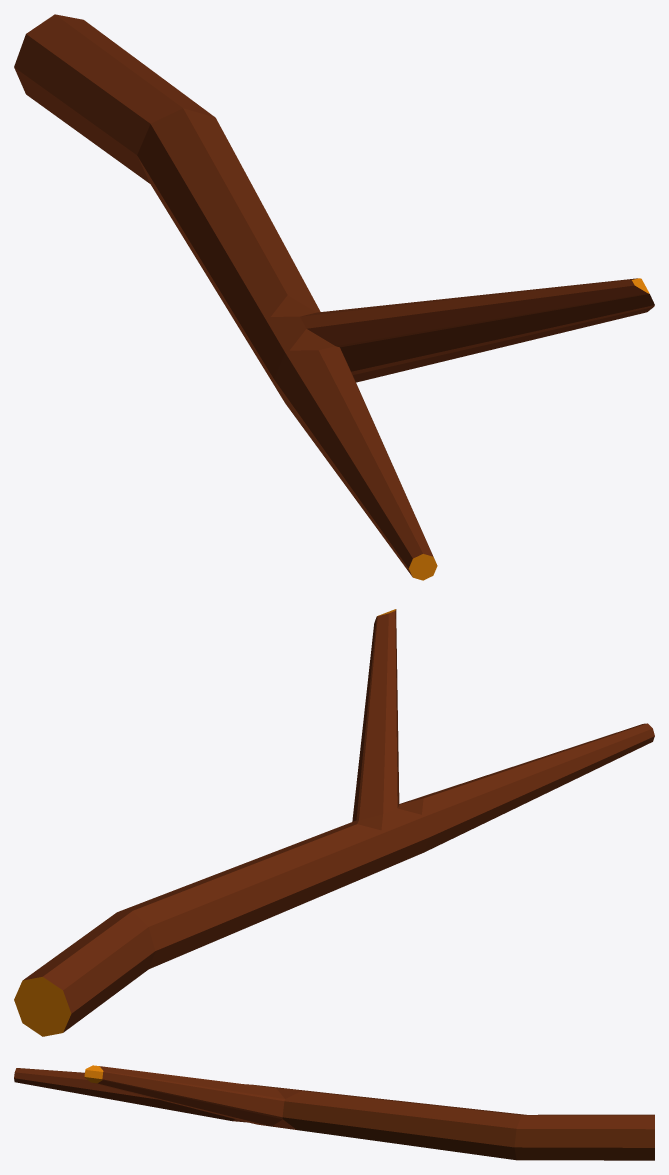
The model's file is Stick_43.fbx.
3 views of the same model, one above another, from view 1: azimuth 30°, elevation 25°; view 2: azimuth 150°, elevation 25°; view 3: azimuth 270°, elevation 25° (orthographic). The views are drawn at different scales.
Visible parts, largest first — view 1: Circle.405; view 2: Circle.405; view 3: Circle.405.
Part boxes in pixels (bbox=[...]): Circle.405: bbox=[14, 14, 654, 580]; Circle.405: bbox=[14, 609, 654, 1036]; Circle.405: bbox=[14, 1065, 654, 1160].
Size of the model in its own units: 13.28 by 8 by 44.51.
